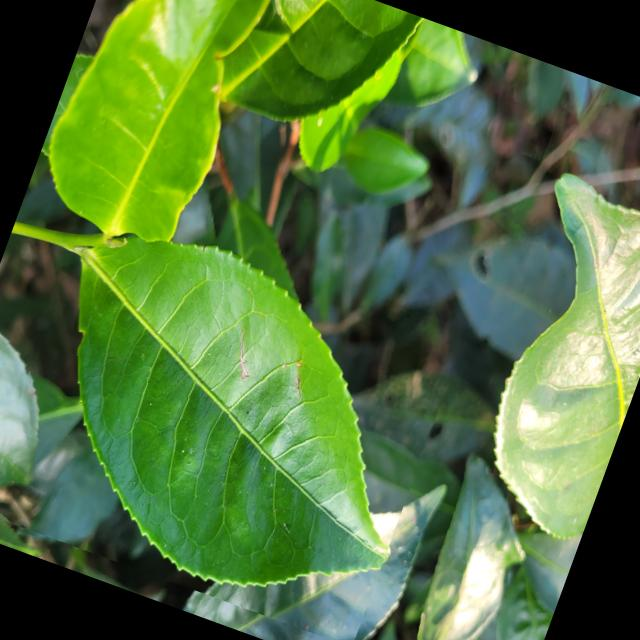Category D(7+ days, Not for Tea): (0, 191, 467, 640)
